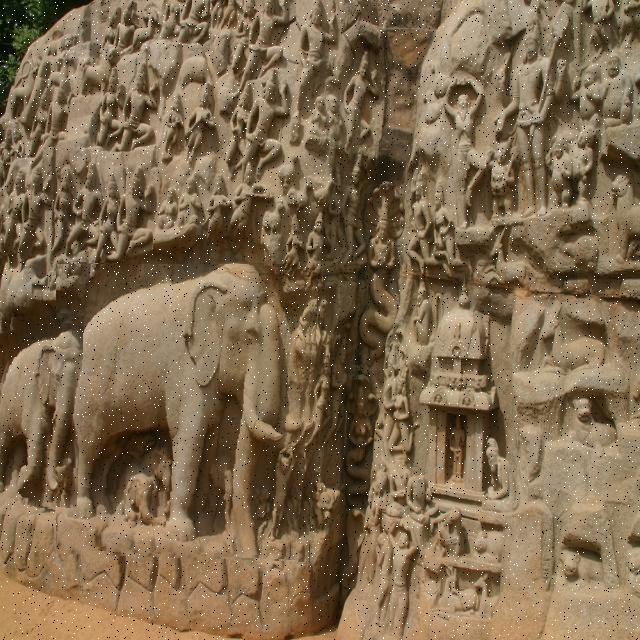elephant: (56, 264, 317, 560), (0, 319, 84, 508)
